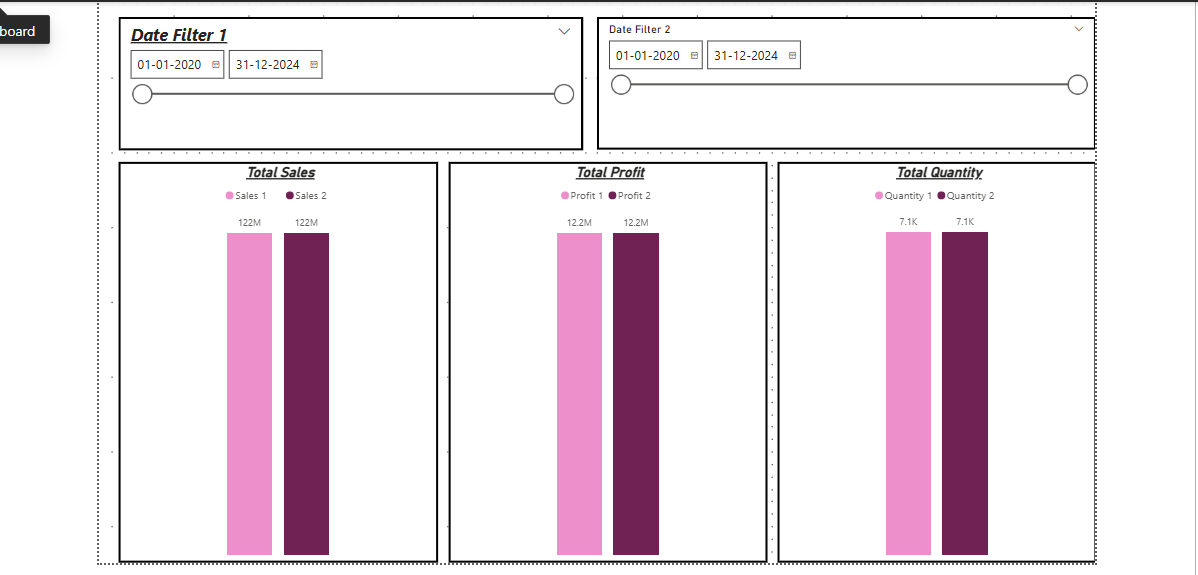

What the dashboard file says about the page in this screenshot:
{"tool":"powerbi","page":{"name":"Req-4 Part-1","canvas":[1280,720],"ordinal":2},"visuals":[{"type":"slicer","fields":{"Values":["Date Tabel 1.Date"]},"box":[24.7,19,596.3,170.9],"z":0},{"type":"slicer","fields":{"Values":["Date Table 2.Date"]},"box":[639.6,19.1,641,170.2],"z":1000},{"type":"clusteredColumnChart","title":"Total Sales","fields":{"Y":["Sum(Fact Table.Net Sales     )","Date Tabel 1.Sum Of Net Sales"]},"box":[24.7,205.1,410.2,514.7],"z":2000},{"type":"clusteredColumnChart","title":"Total Profit","fields":{"Y":["Sum(Fact Table.Profit)","Messures Table.Total Profit"]},"box":[448.9,205.4,409.3,514.9],"z":3000},{"type":"clusteredColumnChart","title":"Total Quantity","fields":{"Y":["Sum(Fact Table.Units Sold)","Messures Table.Total Quantity"]},"box":[871.3,205.4,409.3,514.9],"z":4000}]}

Visuals, with their boxes in screenshot pixels (x1, y1, x2, y2):
slicer - Date Tabel 1.Date: bbox=[113, 12, 582, 146]
slicer - Date Table 2.Date: bbox=[596, 12, 1100, 146]
"Total Sales" clusteredColumnChart: bbox=[113, 158, 436, 563]
"Total Profit" clusteredColumnChart: bbox=[447, 158, 768, 563]
"Total Quantity" clusteredColumnChart: bbox=[779, 158, 1100, 563]
